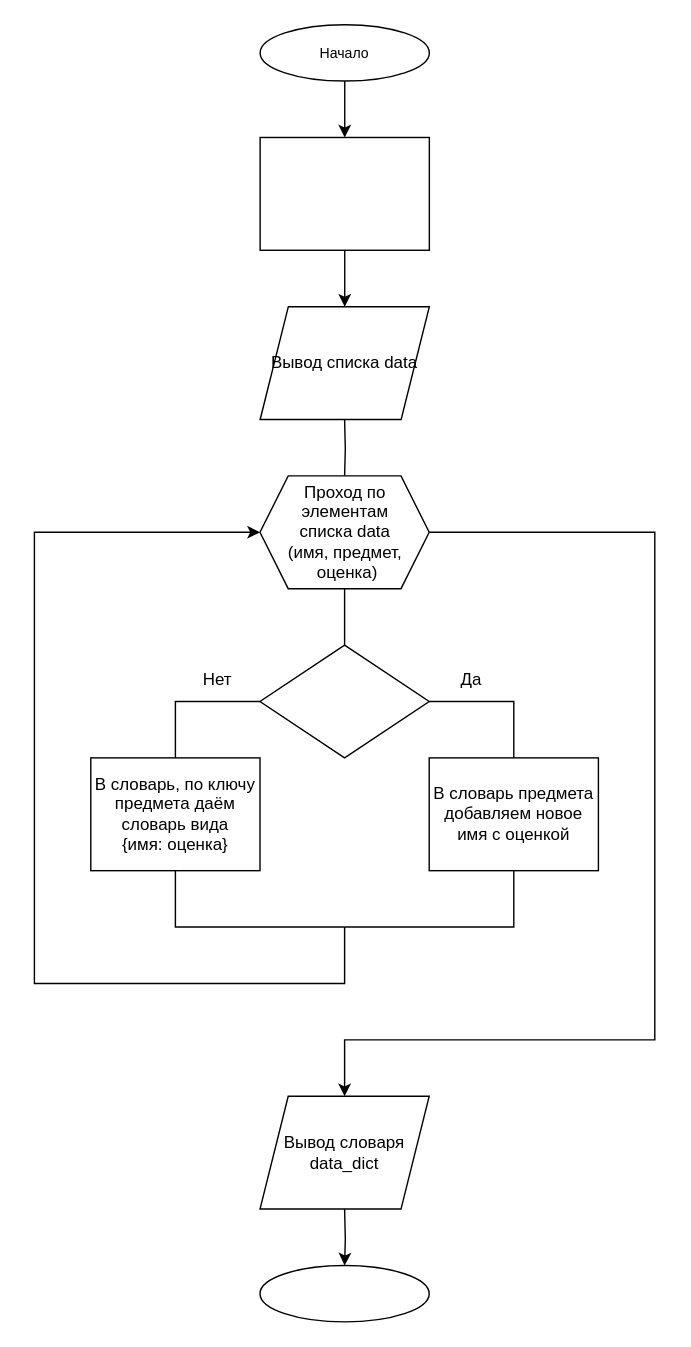
Some shapes in this 691 by 1347 pixel diagram are drawn without their labels. The shapes that lost their labels are listed below. From the top down, each one's centre as x and y in pixels, then its label:
(344,193): Дан список студентов data Создаём словарь data_dict
(344,701): предмет в ключах словаря?
(344,1293): Конец
